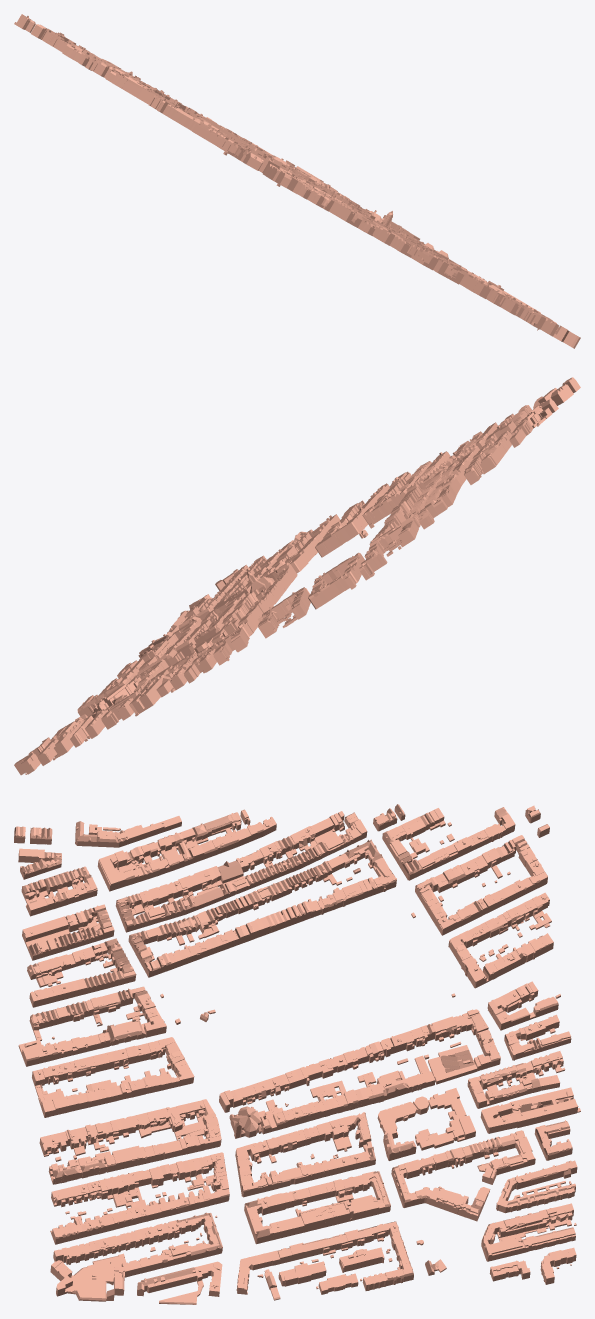
3 renders of one model, top to bottom at view 1: azimuth 30°, elevation 25°; view 2: azimuth 150°, elevation 25°; view 3: azimuth 270°, elevation 25°, orthographic. The views are drawn at different scales.
Size of the model in its own units: 1.75e+07 by 1.29e+07 by 2.12e+07.
